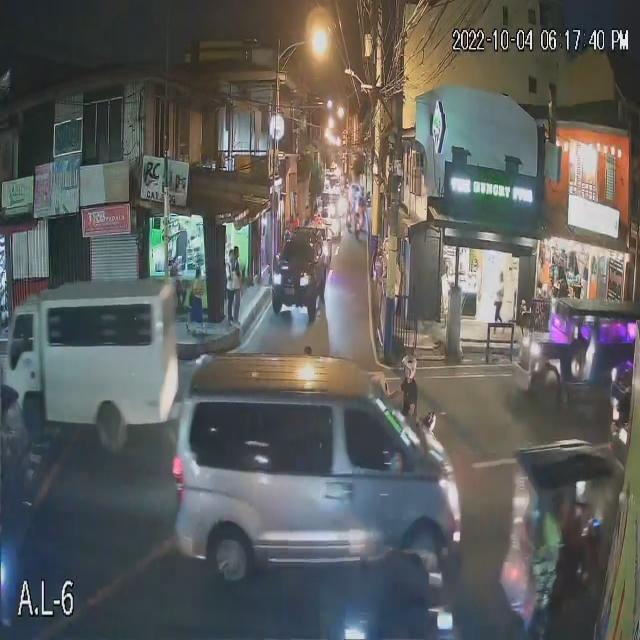helmet: (400, 353, 414, 376)
motorcycle: (513, 519, 597, 590)
rider: (566, 511, 593, 572), (540, 507, 557, 578), (397, 380, 415, 420)
